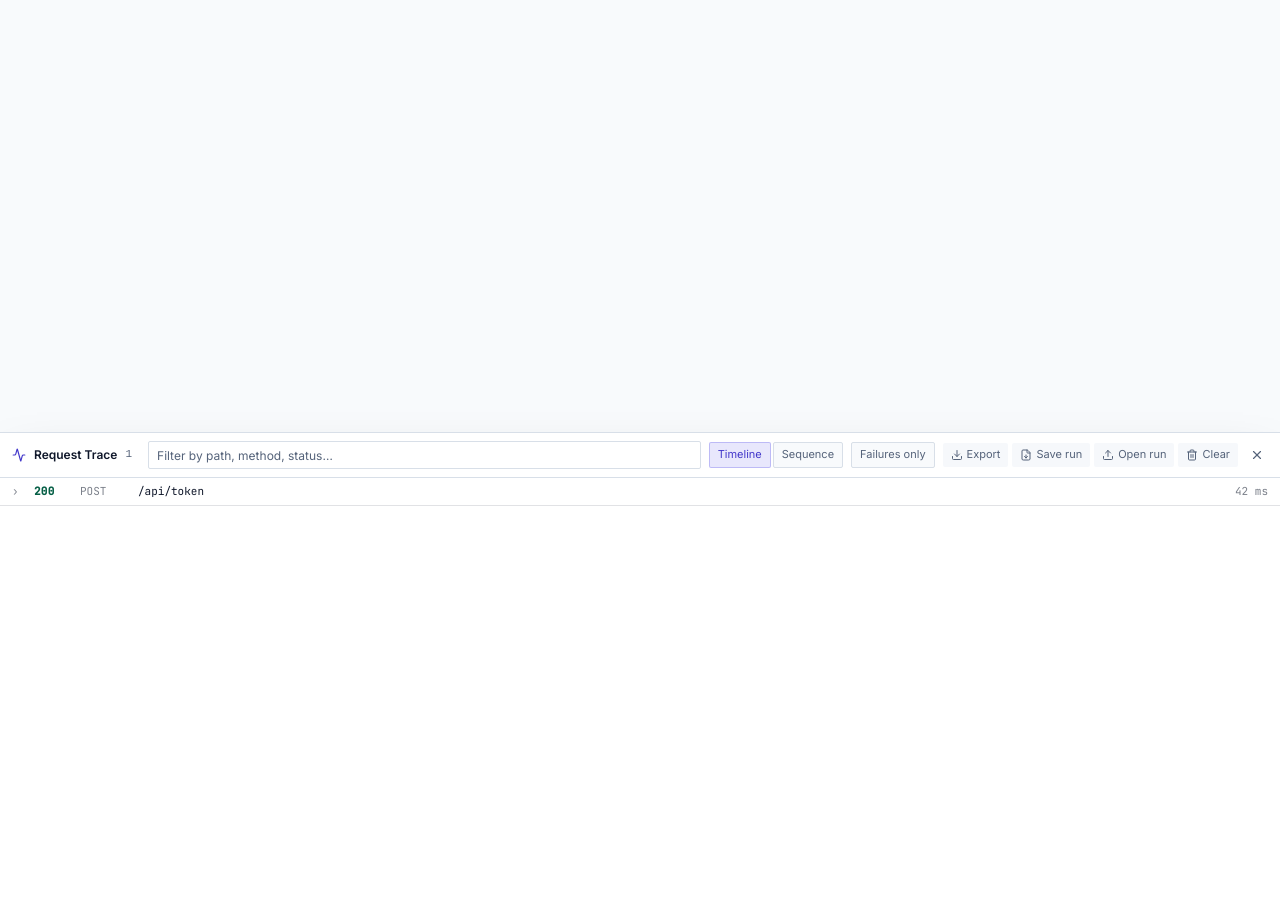
Scenario: TracePanel › hides credentials until asked, then reveals them
The image size is (1280, 900).
Click the button "› 200 POST /api/token 42 ms" at (171, 491), box [0,478,1279,504]
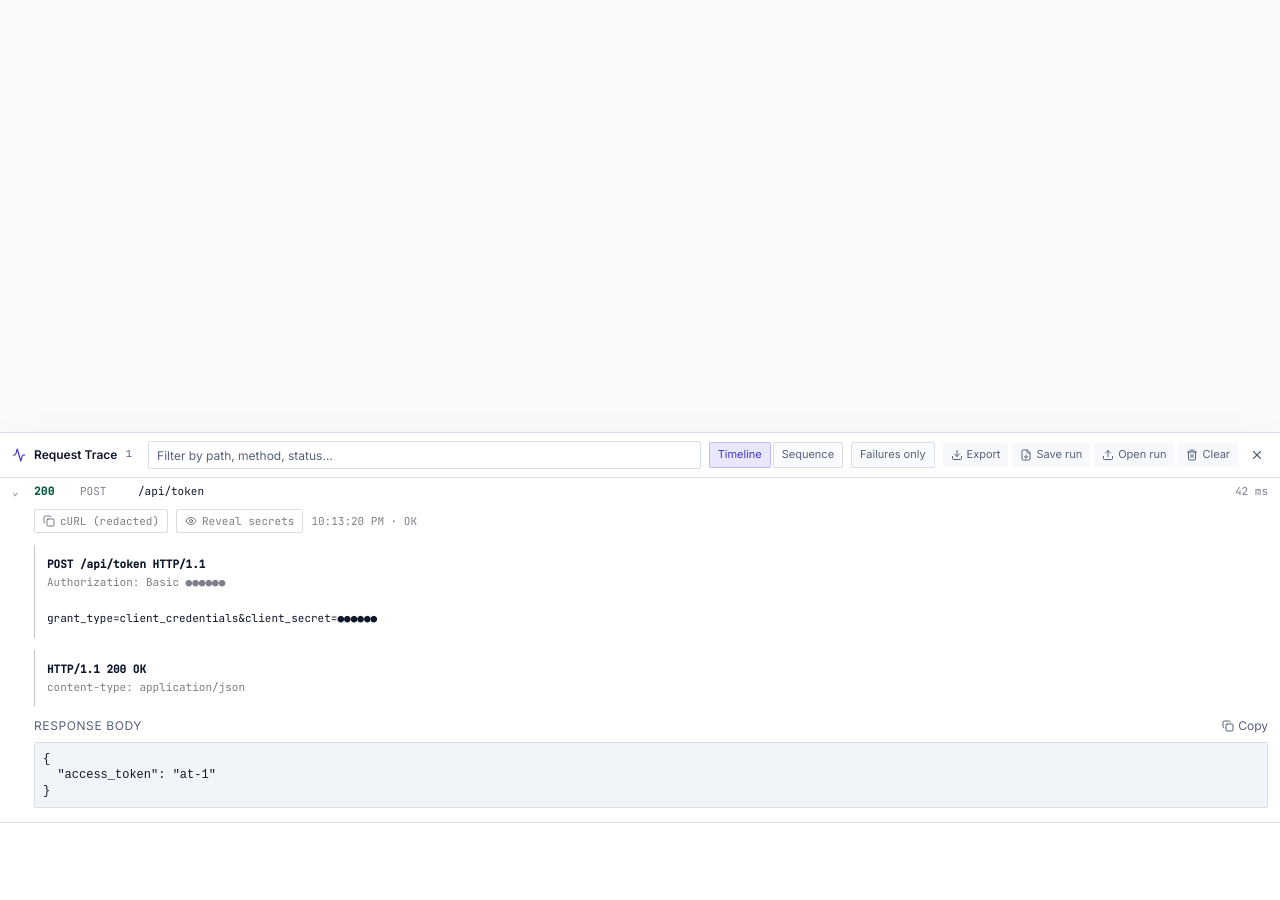
expect the text "c2VjcmV0LXZhbHVl" is not shown: met
expect the text "Authorization: Basic ●●●●●●" is shown: met, box [47,575,225,589]
Click the button "Reveal secrets" at (240, 521), box [176,508,303,533]
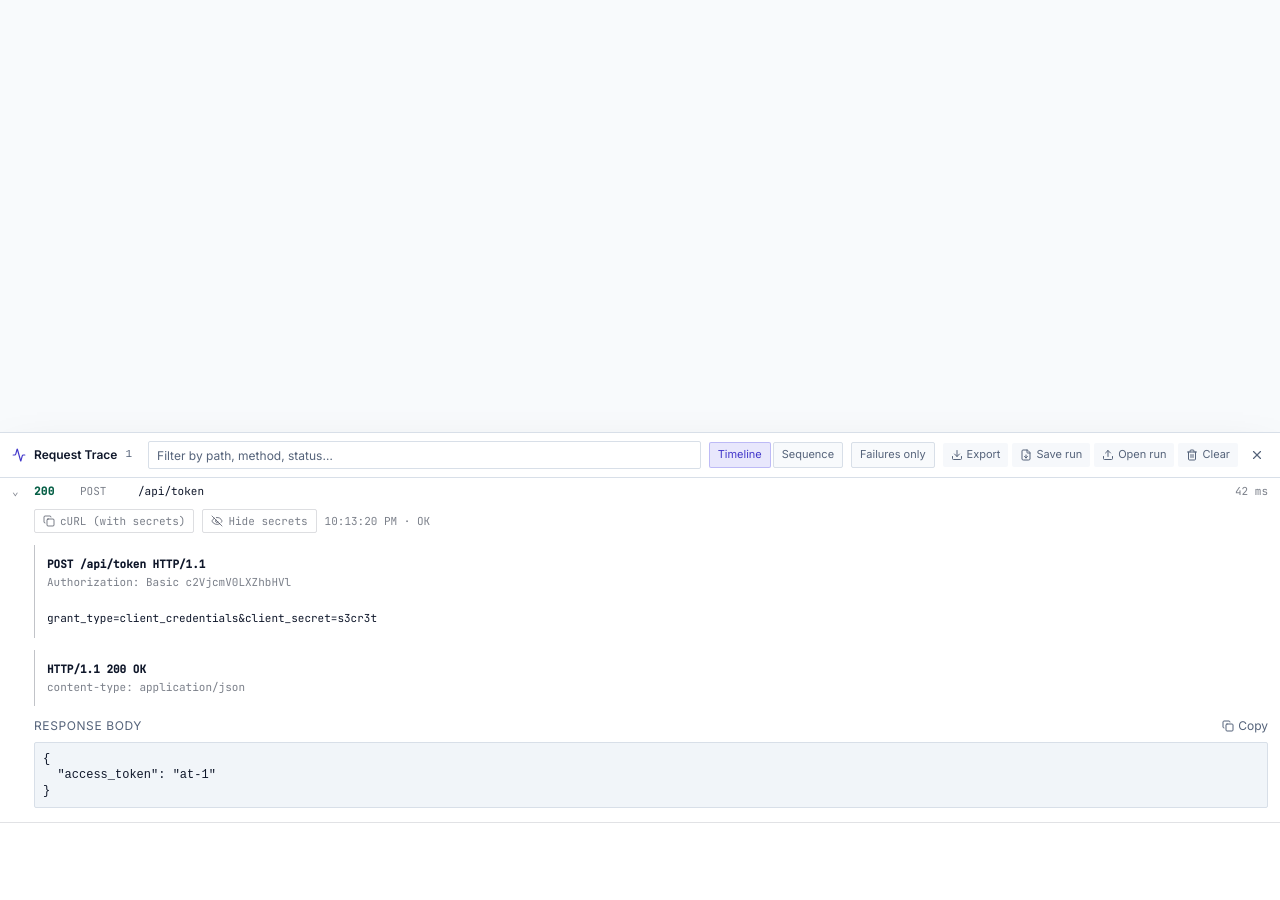
expect the text "Authorization: Basic c2VjcmV0LXZhbHVl" is shown: met, box [47,575,291,589]
